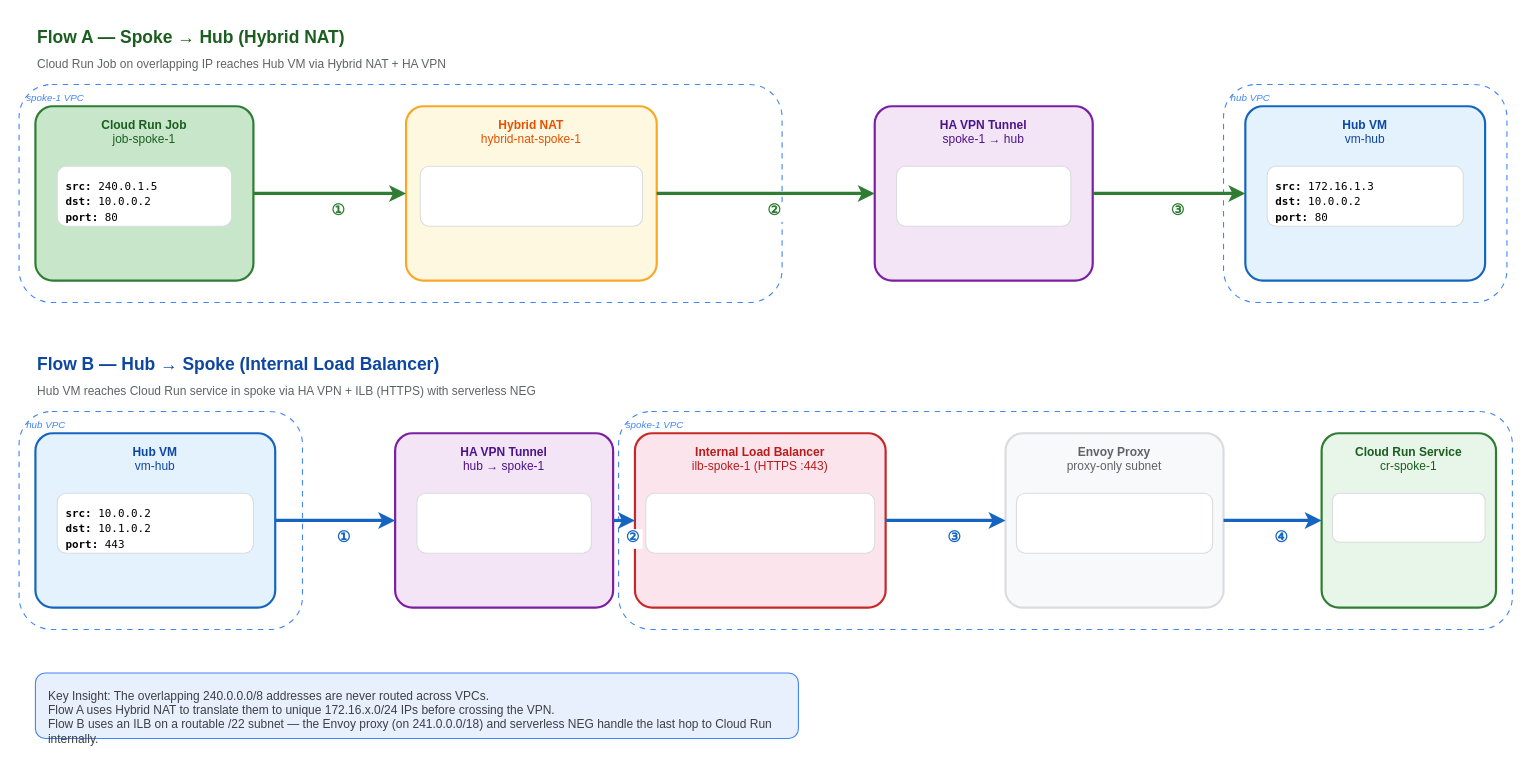
Some shapes in this 1531 by 765 pixel diagram are drawn without their labels. The shapes that lost their labels are listed below. From the top down, each one's centre as x and y in pixels, then its label:
the point at 531,195: SNAT: 240.0.1.5 → 172.16.1.3 dst: 10.0.0.2 (unchanged) port: 80
the point at 983,195: src: 172.16.1.3 dst: 10.0.0.2 (IPsec encrypted)
the point at 503,522: src: 10.0.0.2 dst: 10.1.0.2 (IPsec encrypted)
the point at 760,522: dst: 10.1.0.2:443 → TLS termination → URL map → Envoy proxy (241.0.0.x)
the point at 1114,522: src: 241.0.0.x dst: Cloud Run (internal) proxy → serverless NEG
the point at 1408,517: via serverless NEG on 240.x.x.x
